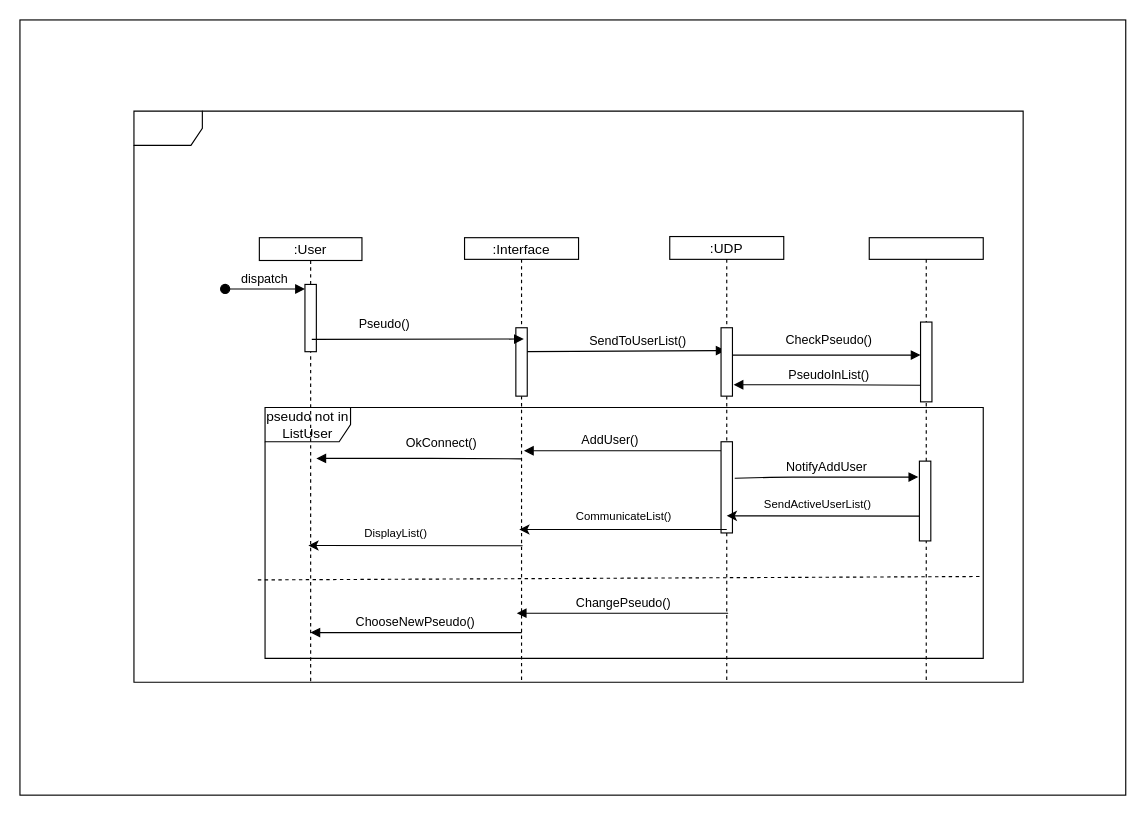
Image size: 1146x815. Some labels were removed from this diagram. The shapes that lost their labels are listed below. From the top down, each one's box as (x1, y1, x2, y2) in pixels, then its label:
(133, 110, 1023, 682): Connexion
(868, 237, 983, 681): :List
